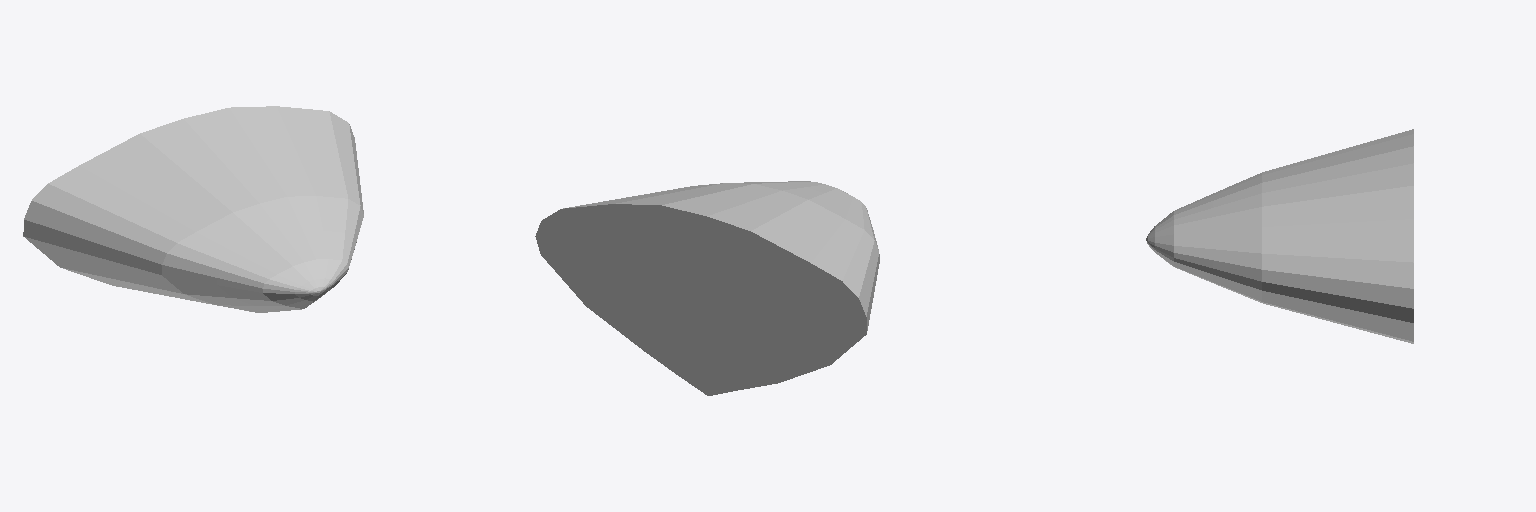
The model's file is pico.obj.
3 views of the same model, side by side, from view 1: azimuth 30°, elevation 25°; view 2: azimuth 150°, elevation 25°; view 3: azimuth 270°, elevation 25° (orthographic).
Visible parts, largest first — view 1: Plane; view 2: Plane; view 3: Plane.
Part boxes in pixels (x1,y1,x2,y2): Plane: (23,106,363,312); Plane: (535,181,879,395); Plane: (1146,129,1413,343).
Size of the model in its own units: 0.3053 by 0.1581 by 0.2131.